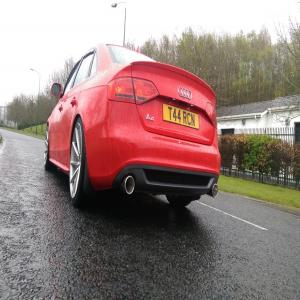Vehicle-registration-plate: (164, 103, 200, 131)
